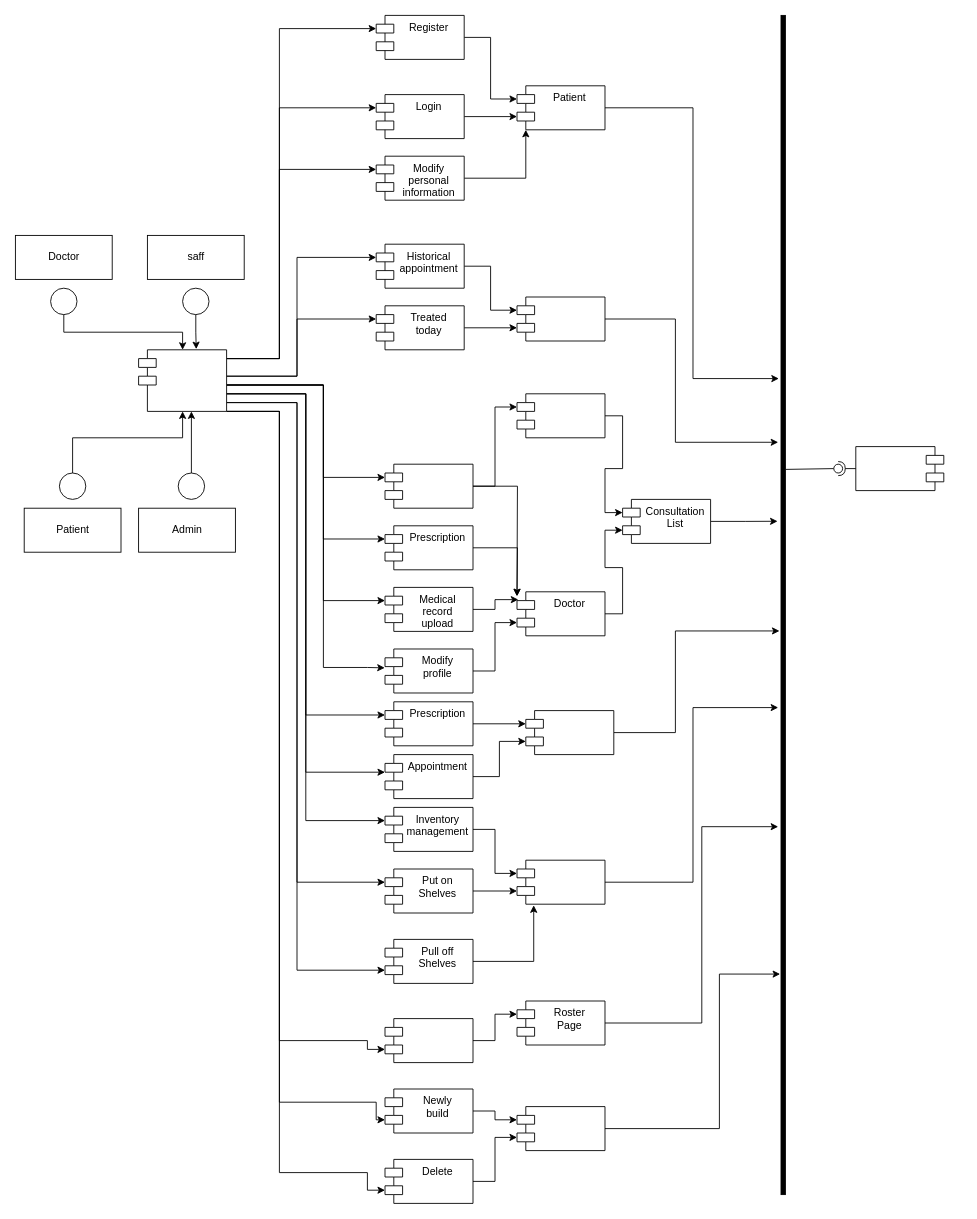
Image size: 977x1219. Some labels were removed from this diagram. Here are the shapes that lost their labels. From the top down, the centre of each, then its label:
the point at 560,318: Appointment List
the point at 182,380: Online Consultation And Medical Subscription
the point at 560,415: Patient LIst
the point at 428,485: Consult
the point at 899,468: Database
the point at 569,732: Order
the point at 560,881: List of Medicinal Materials
the point at 428,1040: Rostering
the point at 560,1128: Account Management
